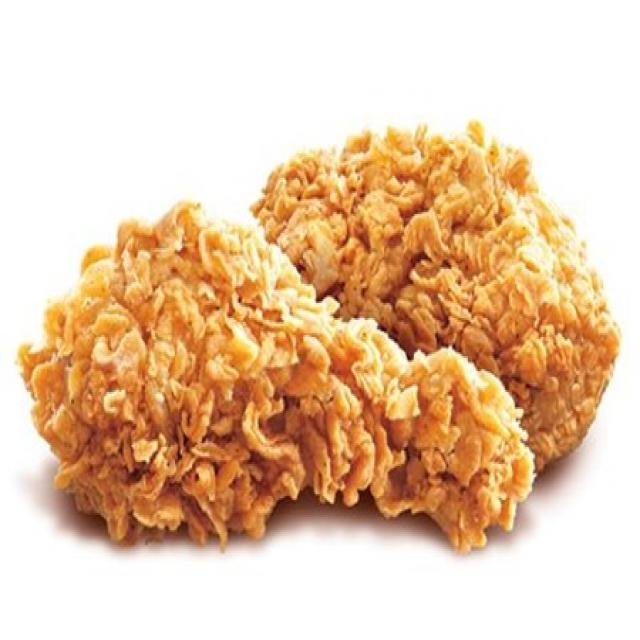Frango: (12, 120, 623, 560)
